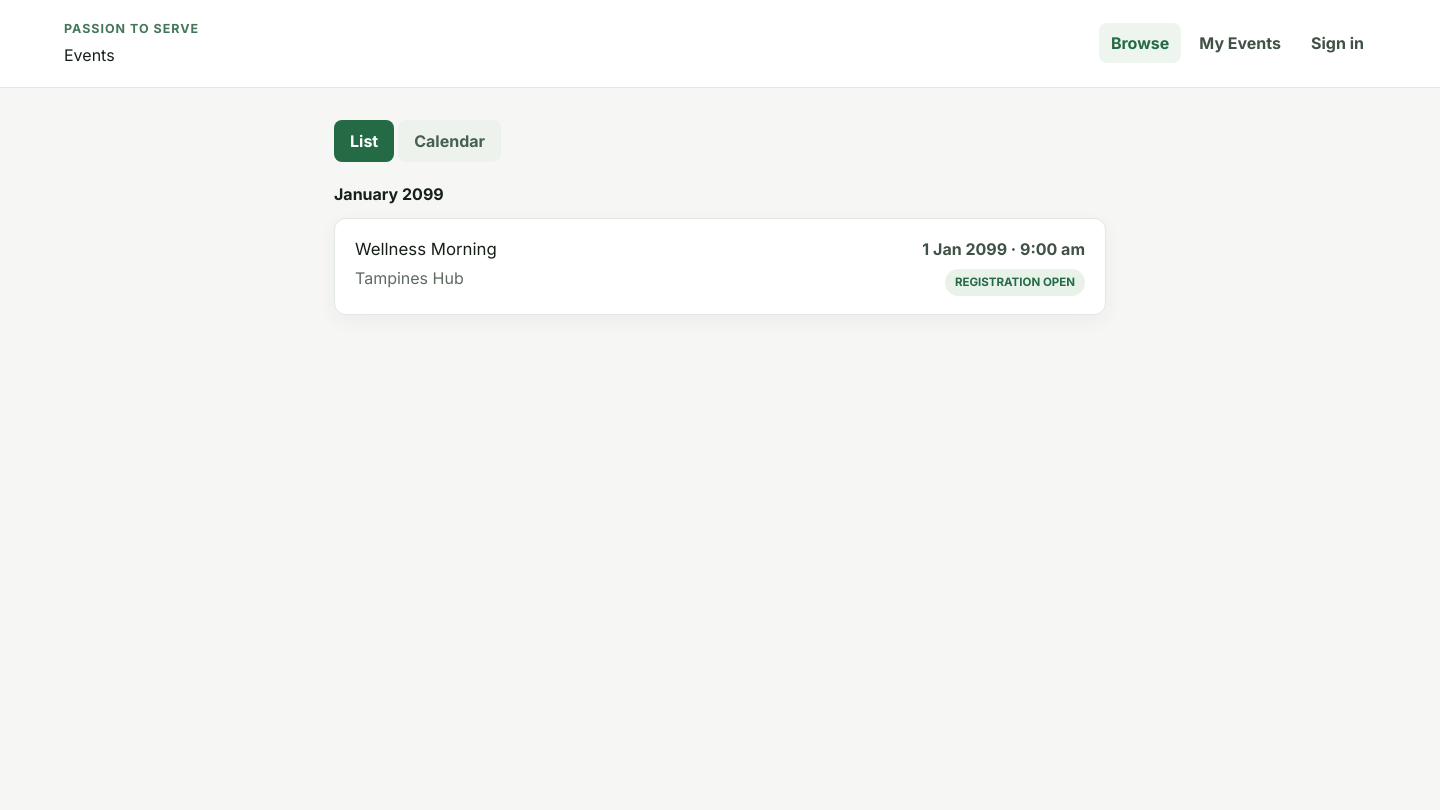
Test: Participant signup journey › browses to an event and signs up as a first-time participant
Expected: the heading "Wellness Morning" is shown, [355,237,497,262]
Click the link "Wellness Morning" at (426, 249), box [334,218,1106,315]
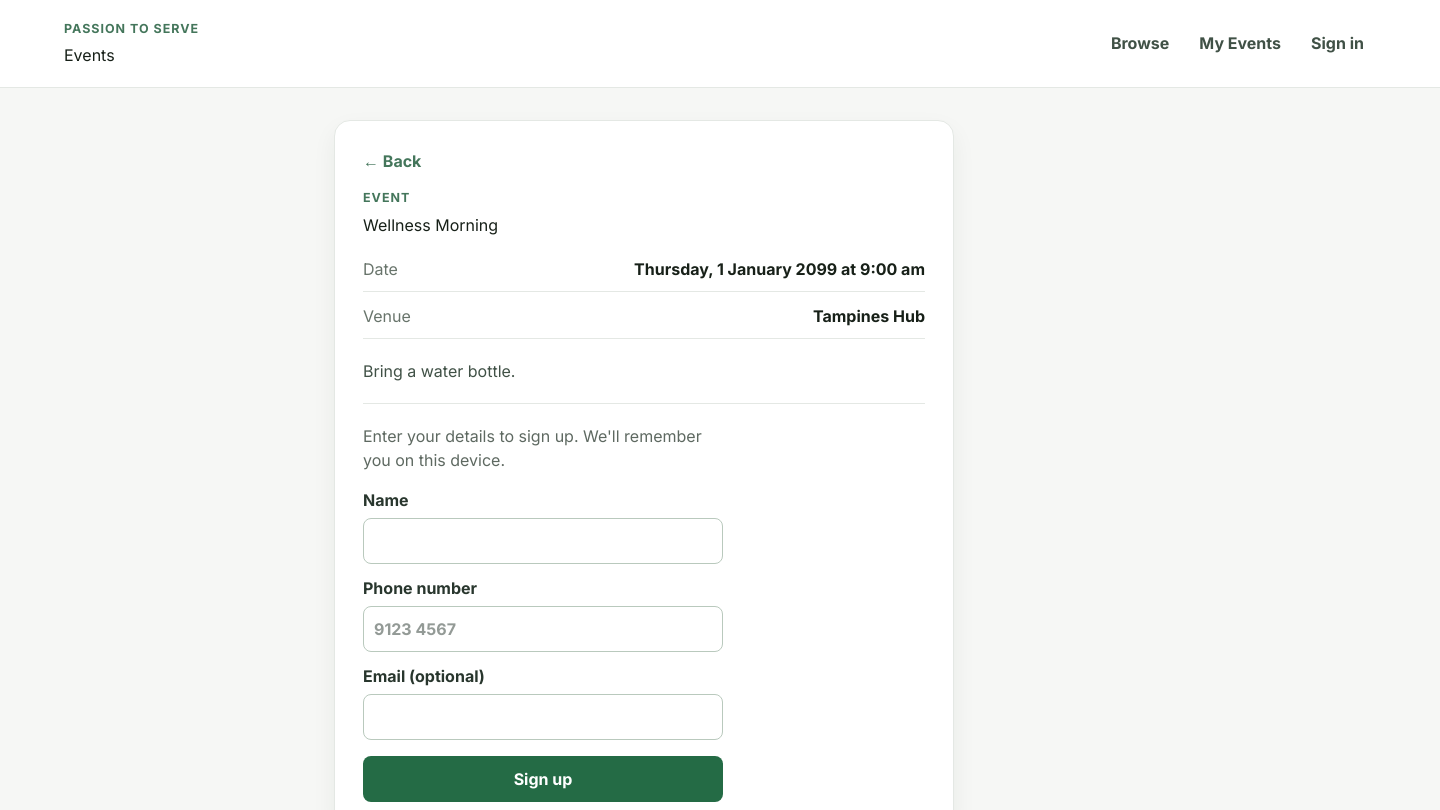
Expected: the text "Bring a water bottle." is shown, [363,361,516,381]
Type "Alice" into the field labelled "Name" at (543, 541), box [363,518,723,564]
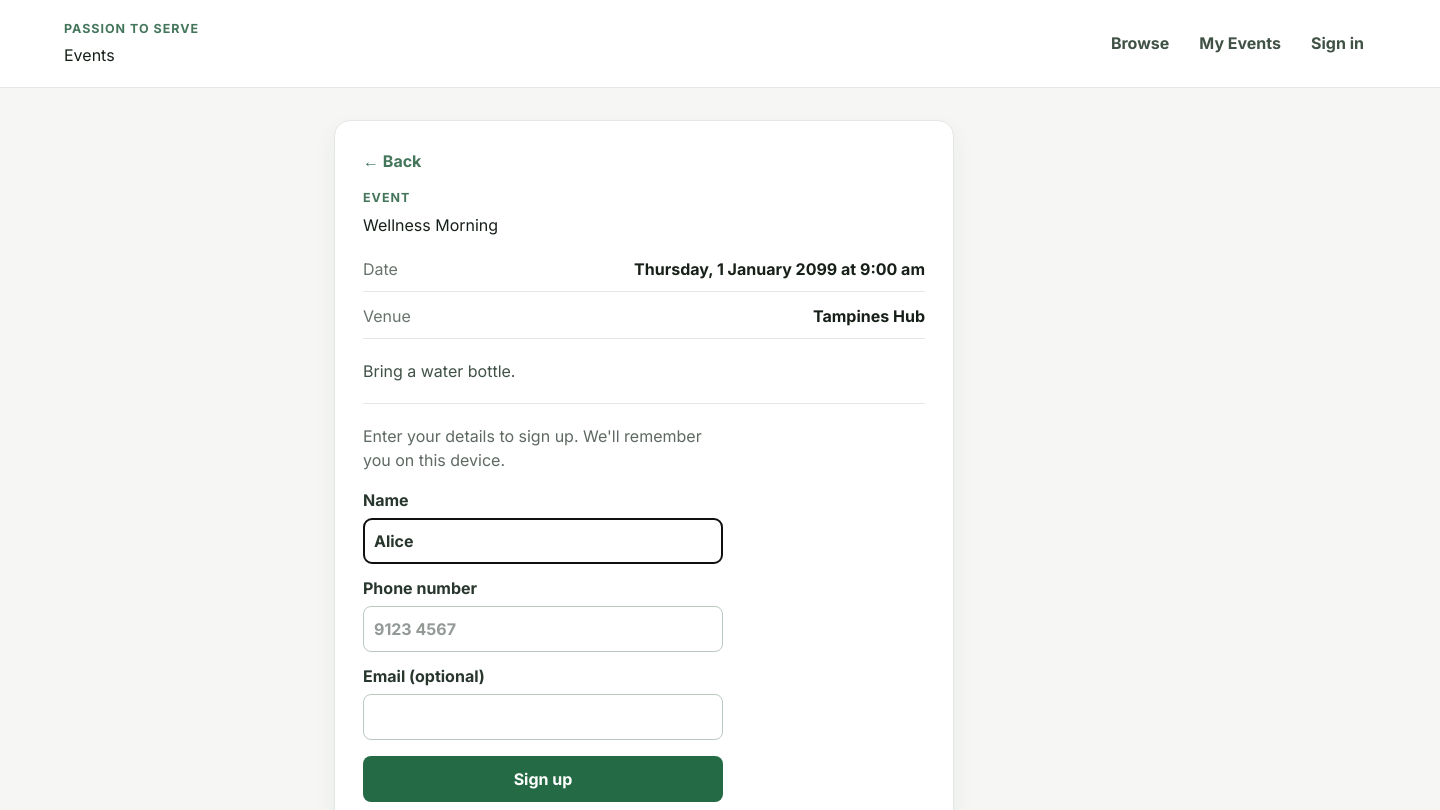
Type "+6591234567" into the field labelled "Phone number" at (543, 629), box [363,606,723,652]
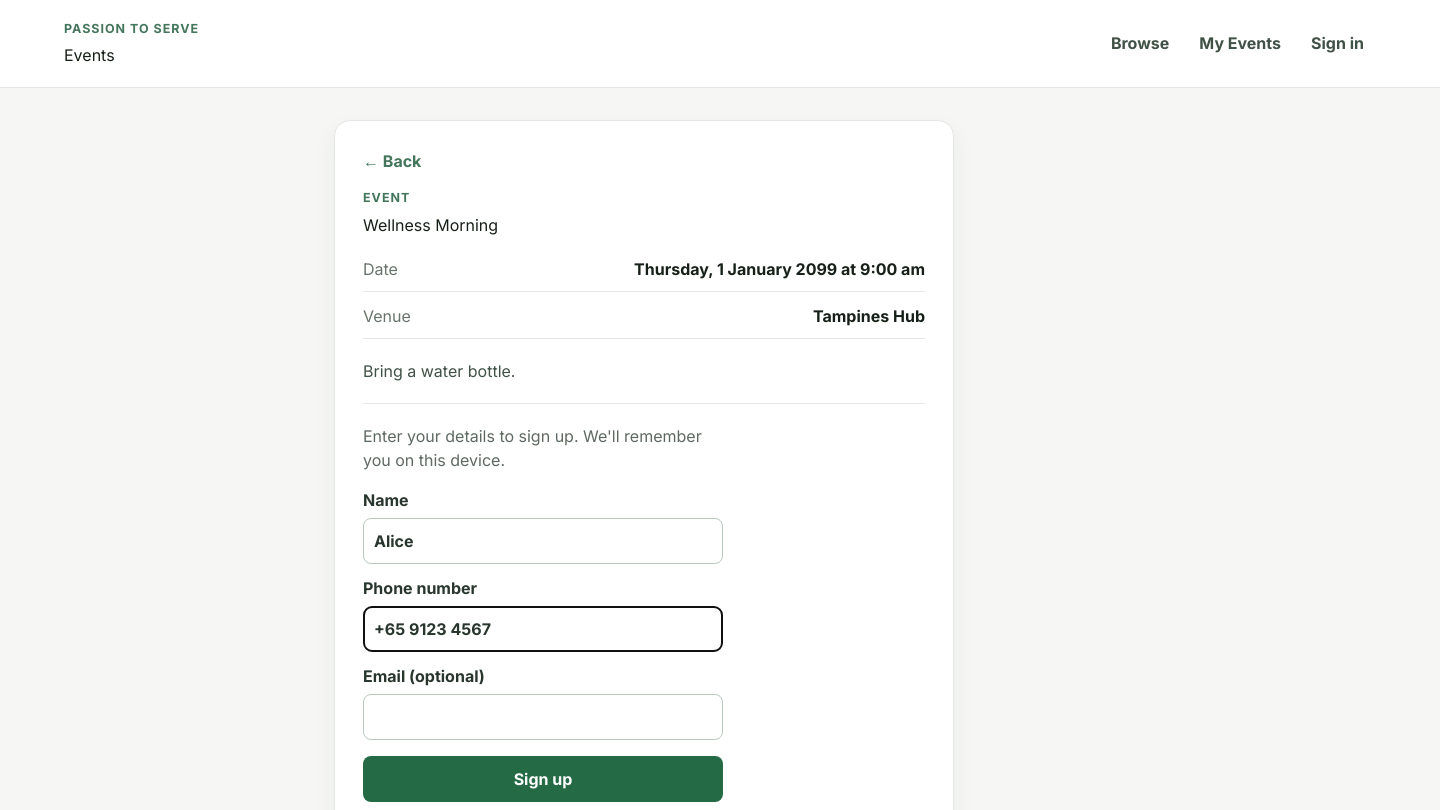
Click the button "Sign up" at (543, 779), box [363,756,723,802]
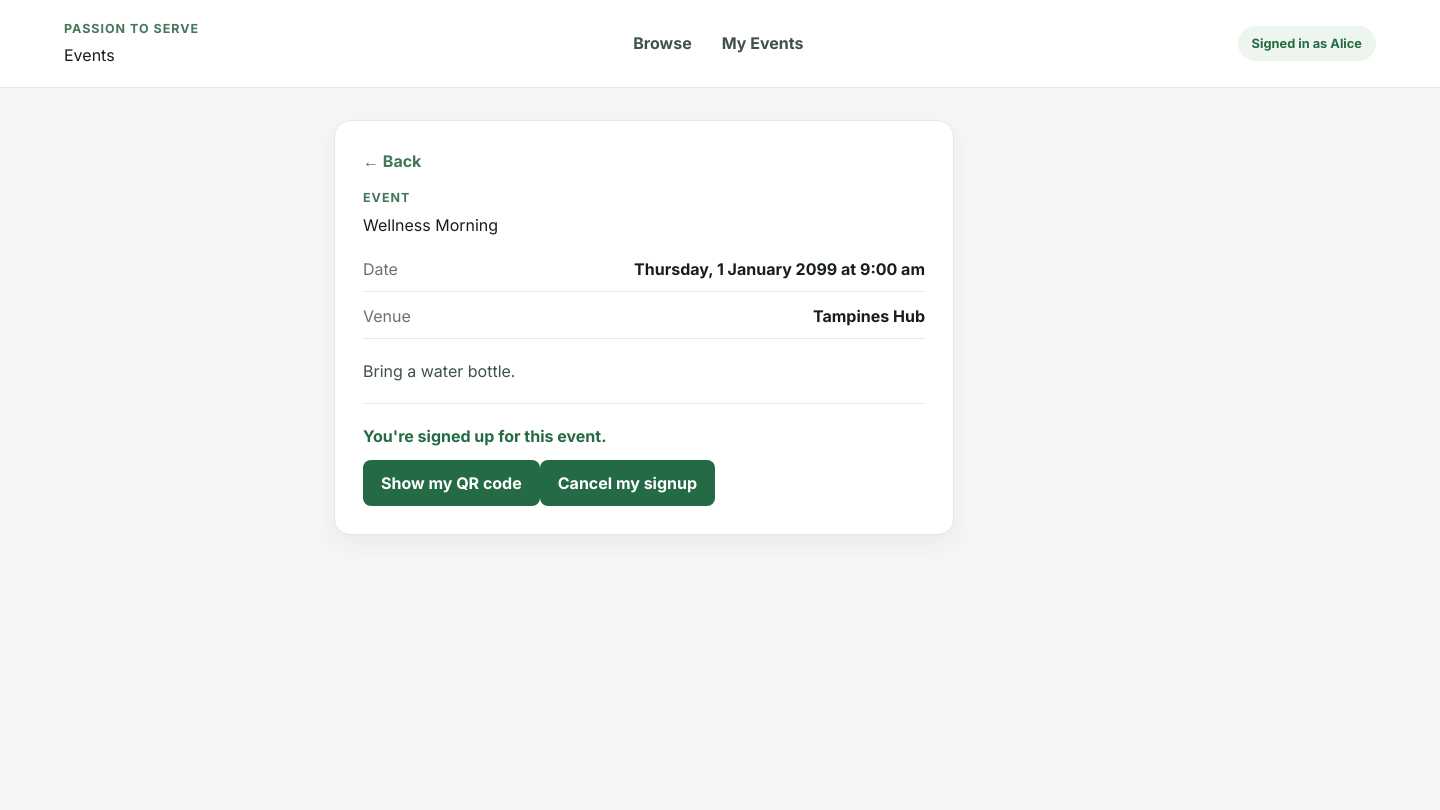
Expected: the text "You're signed up for this event." is shown, [363,426,606,446]
